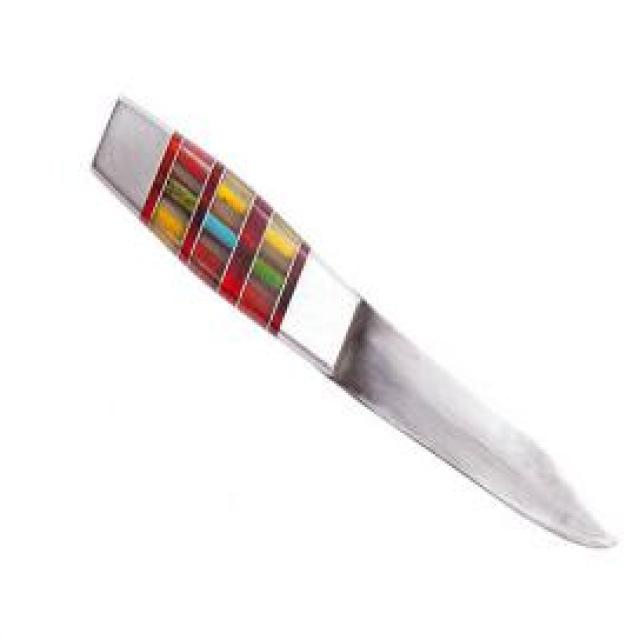knife: (85, 85, 619, 562)
